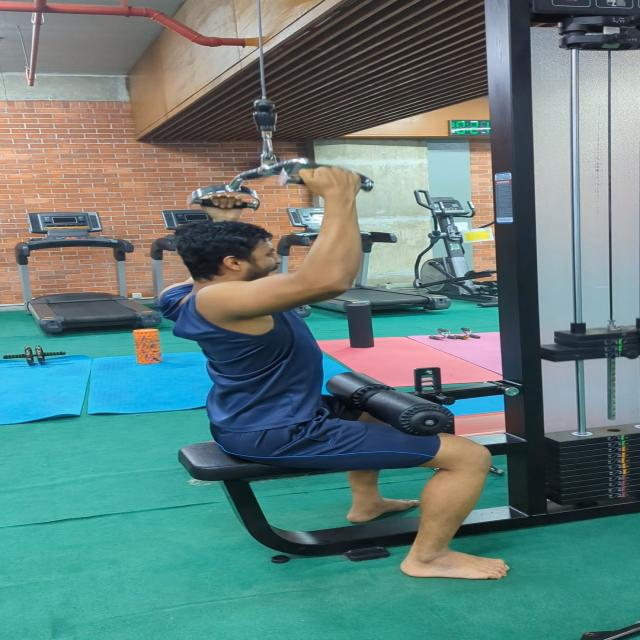Normal_LatPulldown: (148, 157, 533, 588)
